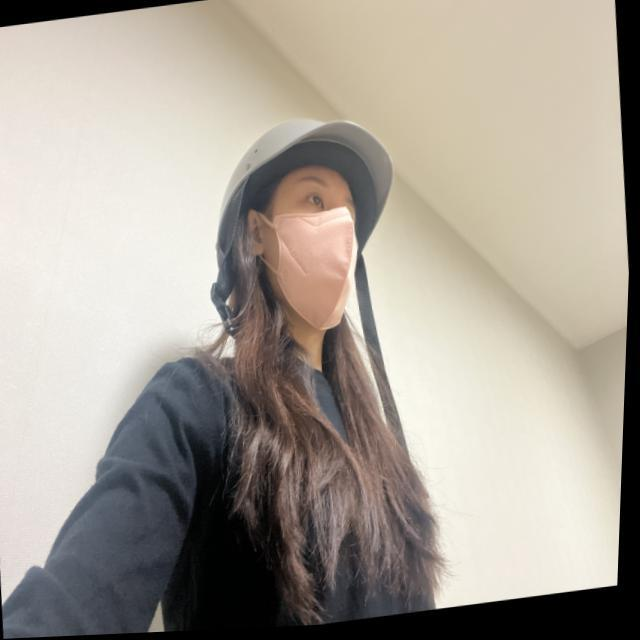Helmet: (210, 107, 390, 344)
